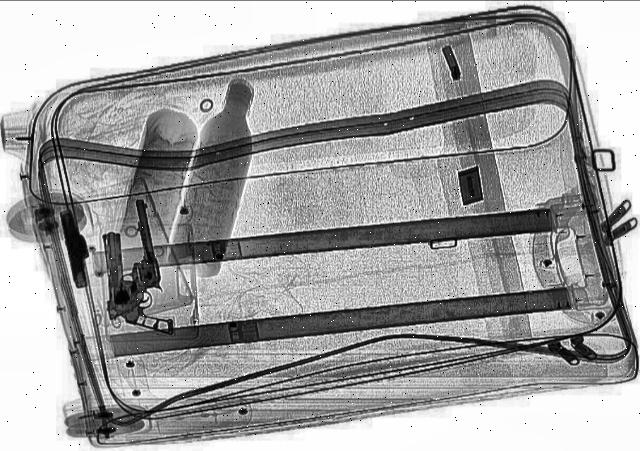Gun: (82, 225, 178, 340), (119, 194, 169, 294), (47, 209, 103, 291)
